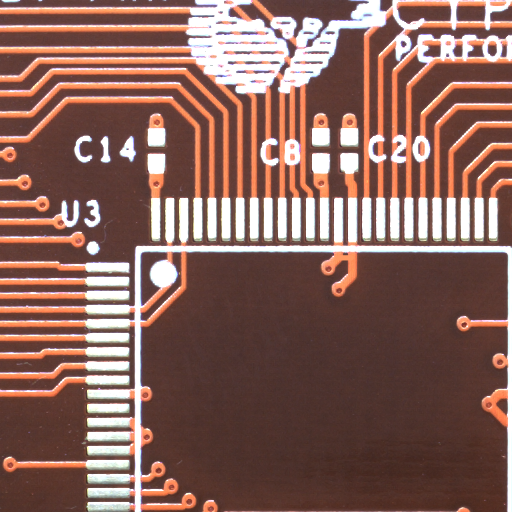Short: (344, 257, 358, 265)
